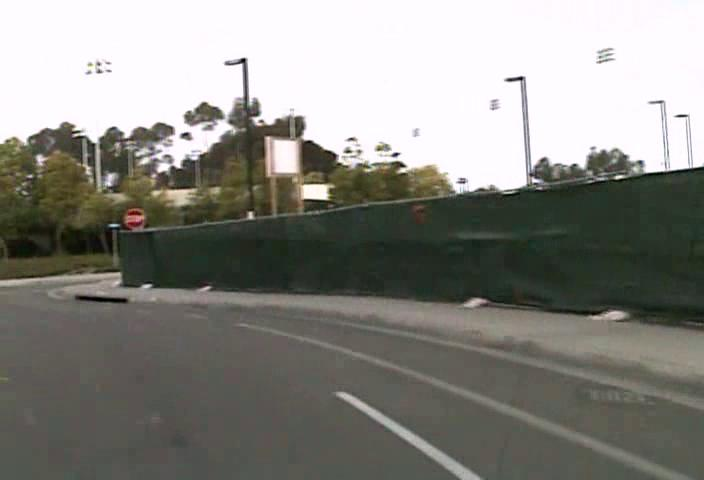stop: (123, 207, 145, 231)
